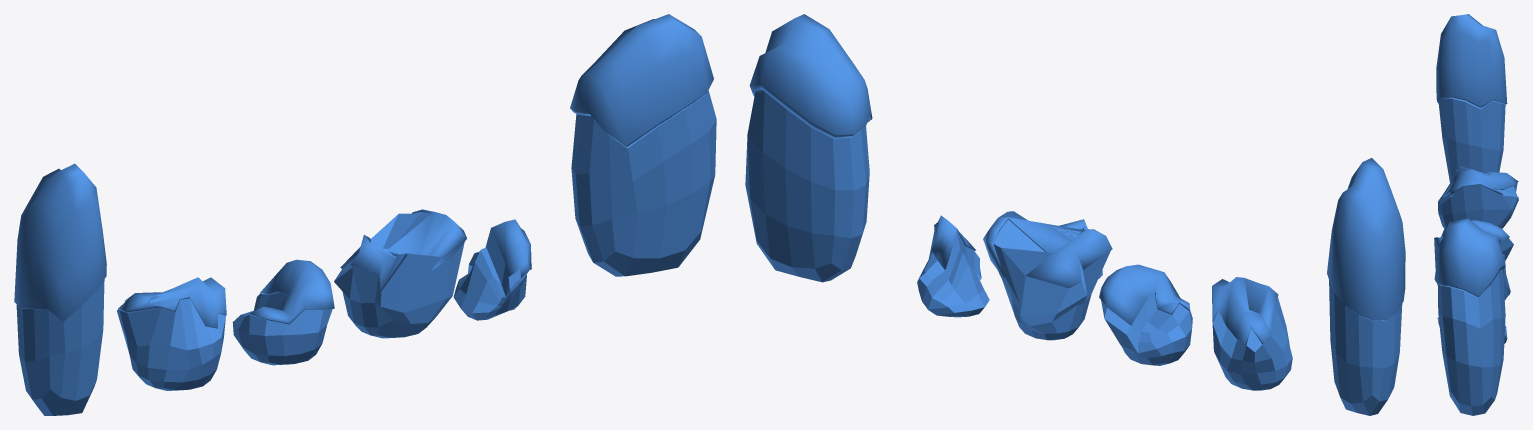
Rendered from Rochers.fbx.
The picture shows the model from 3 angles, left to right: view 1: azimuth 30°, elevation 25°; view 2: azimuth 150°, elevation 25°; view 3: azimuth 270°, elevation 25°; orthographic projection. The views are drawn at different scales.
Visible parts, largest first — view 1: Rocher6, Rocher4, Rocher2, Rocher3, Rocher1, Rocher5; view 2: Rocher6, Rocher4, Rocher2, Rocher3, Rocher1, Rocher5; view 3: Rocher6, Rocher4, Rocher3, Rocher1, Rocher2.
Part boxes in pixels (left/top/right/bottom): Rocher6: left=570, top=14, right=716, bottom=276; Rocher4: left=14, top=163, right=106, bottom=415; Rocher2: left=334, top=209, right=466, bottom=338; Rocher3: left=117, top=277, right=226, bottom=390; Rocher1: left=232, top=259, right=334, bottom=365; Rocher5: left=453, top=219, right=531, bottom=320; Rocher6: left=745, top=14, right=872, bottom=282; Rocher4: left=1327, top=158, right=1405, bottom=415; Rocher2: left=983, top=211, right=1112, bottom=340; Rocher3: left=1212, top=277, right=1292, bottom=390; Rocher1: left=1099, top=264, right=1192, bottom=365; Rocher5: left=917, top=215, right=989, bottom=317; Rocher6: left=1434, top=218, right=1505, bottom=415; Rocher4: left=1436, top=14, right=1507, bottom=182; Rocher3: left=1438, top=166, right=1518, bottom=228; Rocher1: left=1441, top=220, right=1513, bottom=260; Rocher2: left=1434, top=237, right=1510, bottom=300.
Size of the model in its own units: 3906 by 1418 by 571.
